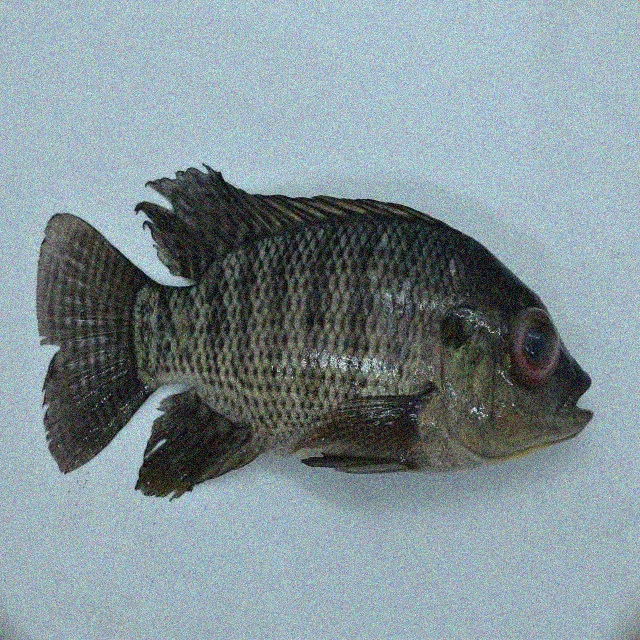streptococcus Disease: (35, 163, 598, 499)
